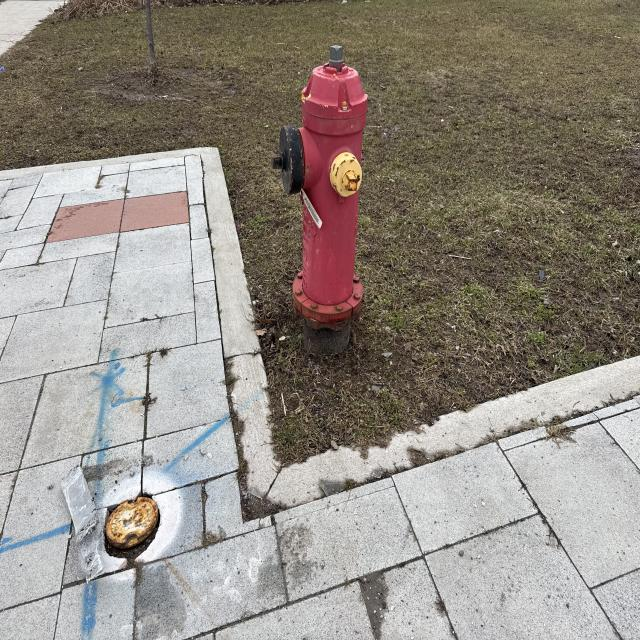Fire hydrant: (270, 45, 370, 333)
